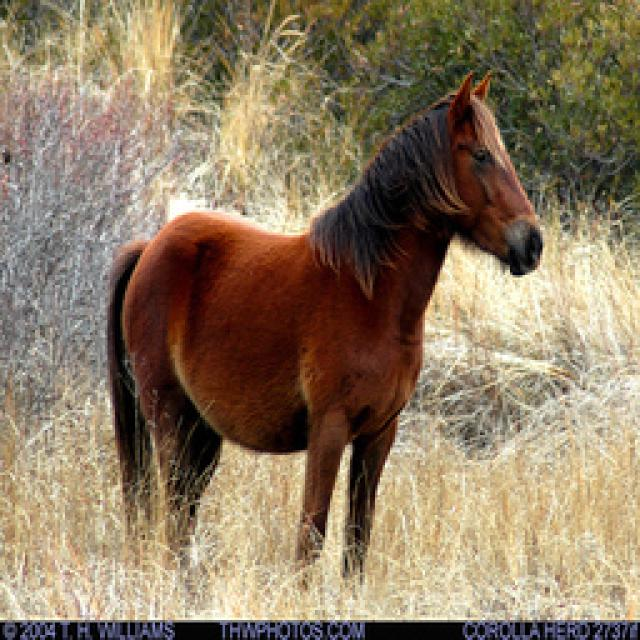Horse: (110, 82, 550, 564)
